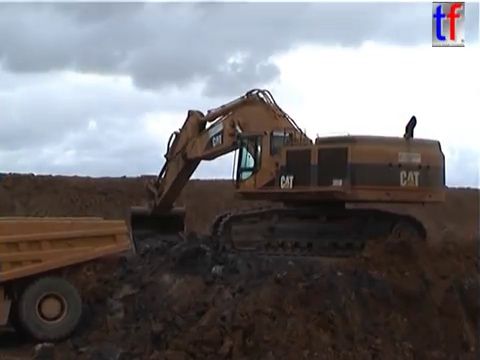excavator: (124, 86, 450, 261)
truck: (1, 213, 133, 341)
